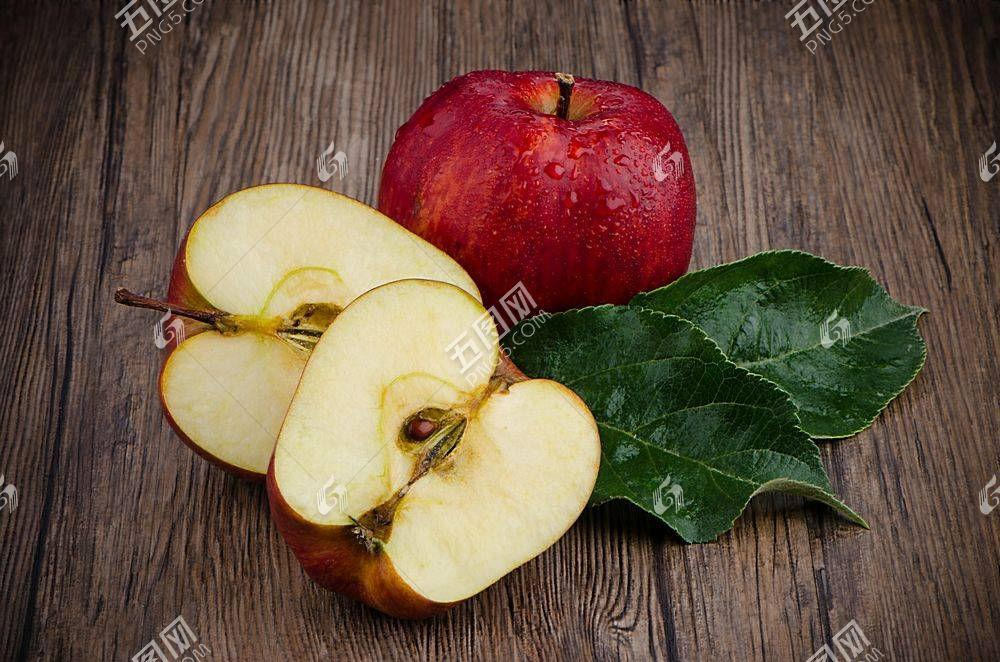apple: (376, 69, 696, 324)
